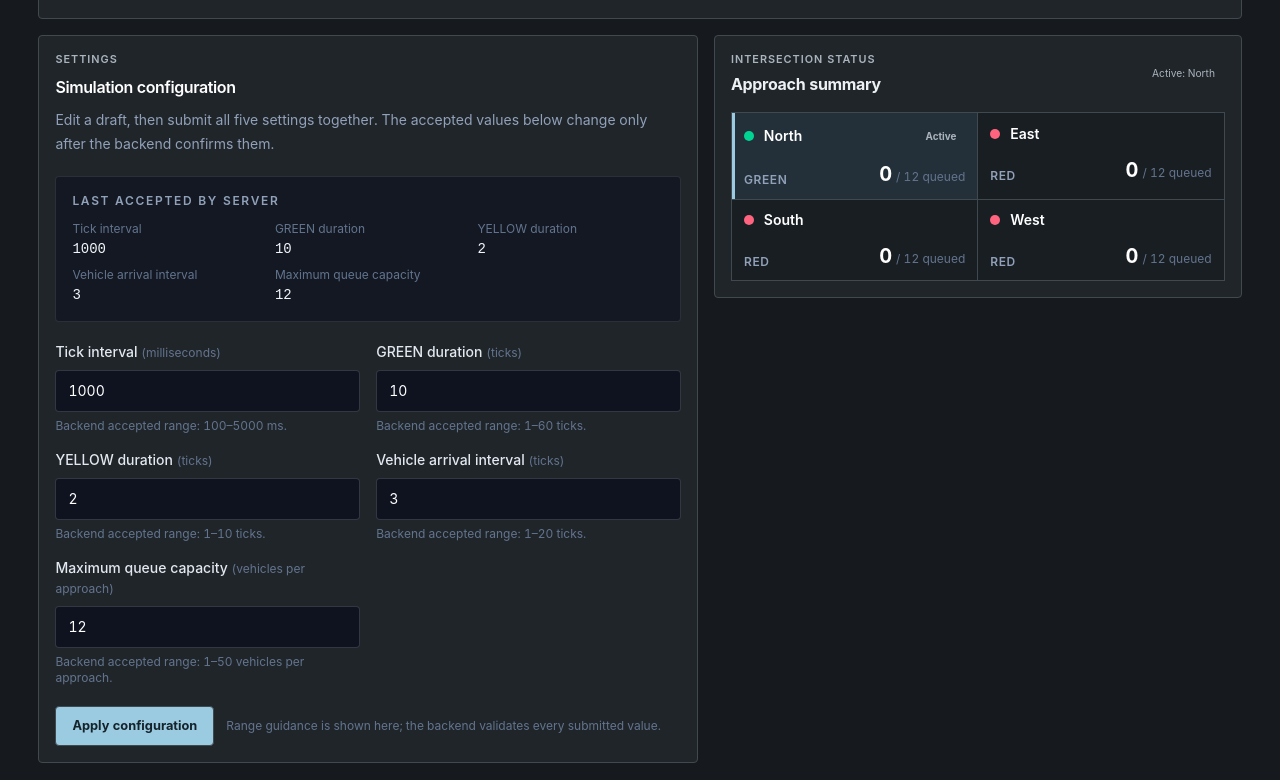
it: simulation controls and configuration › refreshes after a configuration conflict without losing accepted settings or draft
(page scrolled)
Expected: the heading "Simulation configuration" is shown, 55,77 -> 236,97
Replace the text in the number field labelled "Tick interval (milliseconds)" with "750" at [208, 391], box 55,370 -> 360,412
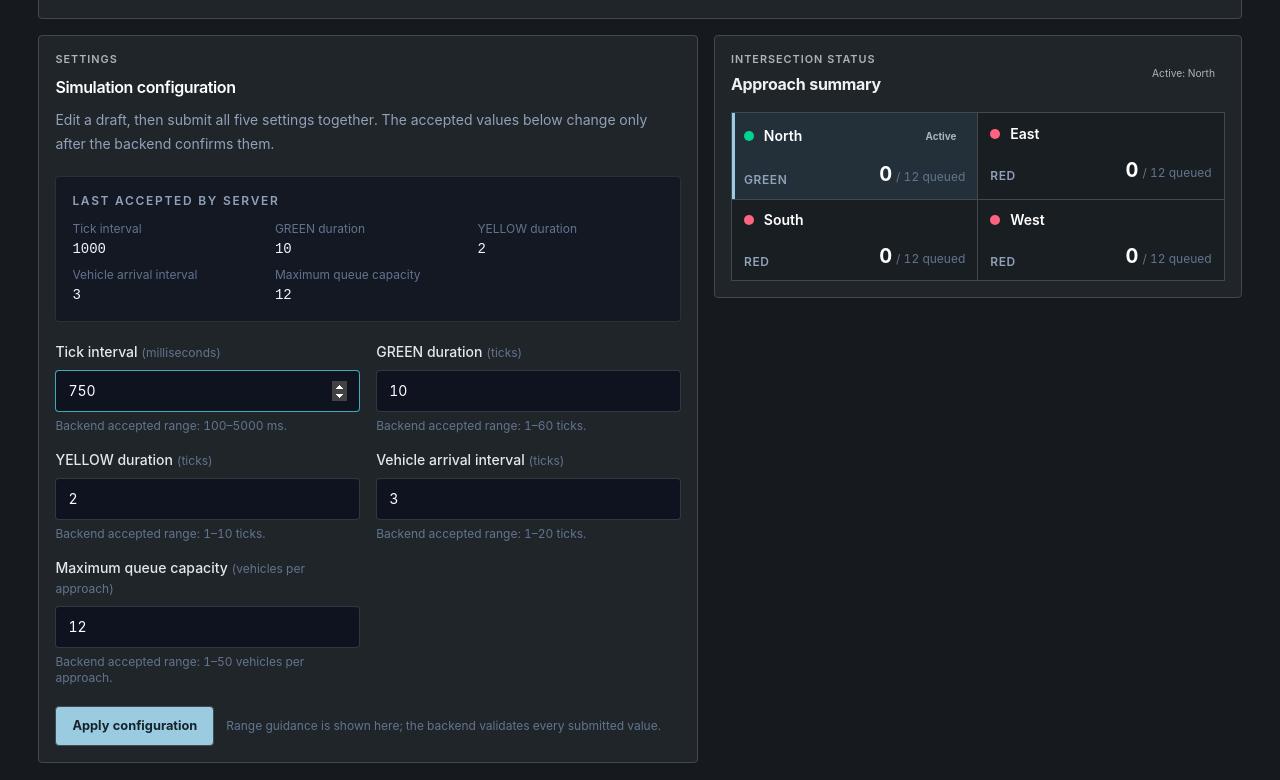
Click the button "Apply configuration".
click(135, 726)  # box 55,706 -> 214,746
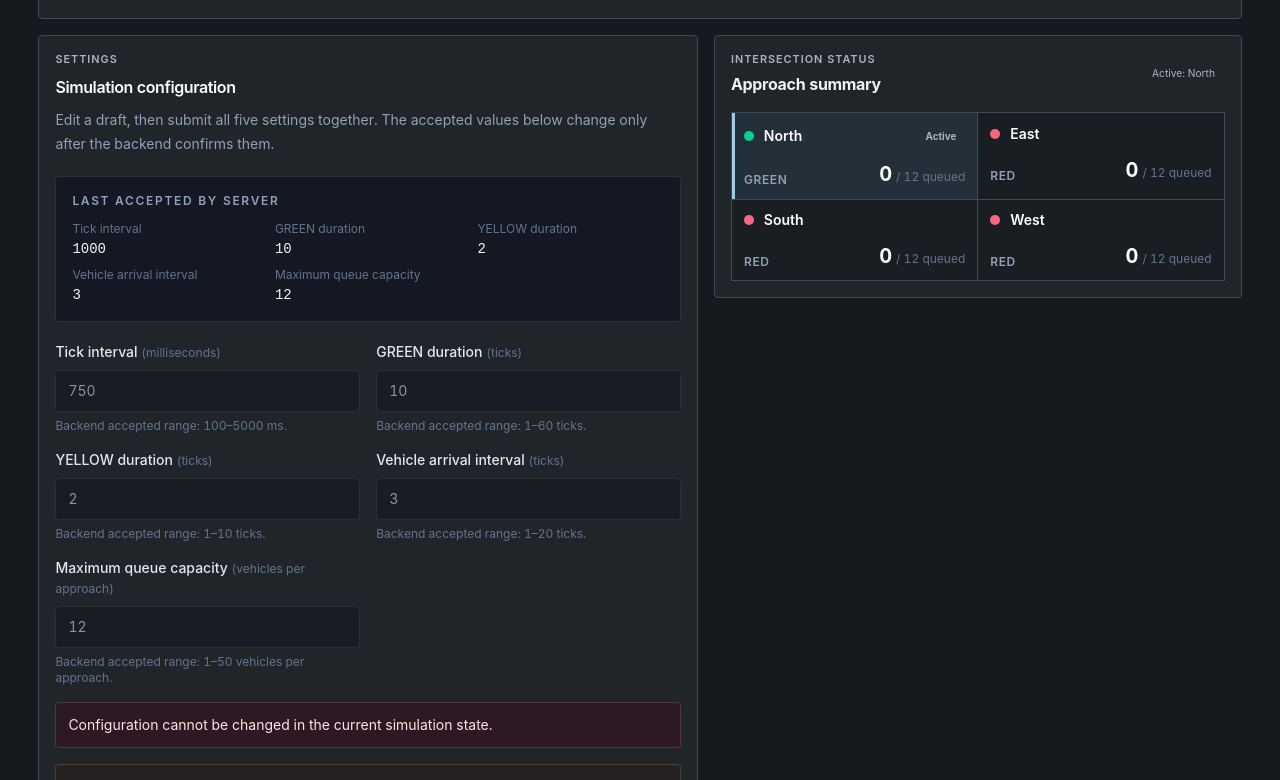
Expected: the text with test id "accepted-tickMs" reads "1000", 72,241 -> 106,257
Result: the message "Configuration cannot be changed in the current simulation state." is shown at 55,702 -> 681,748
Result: the element "Tick interval" is disabled at 55,342 -> 681,686
